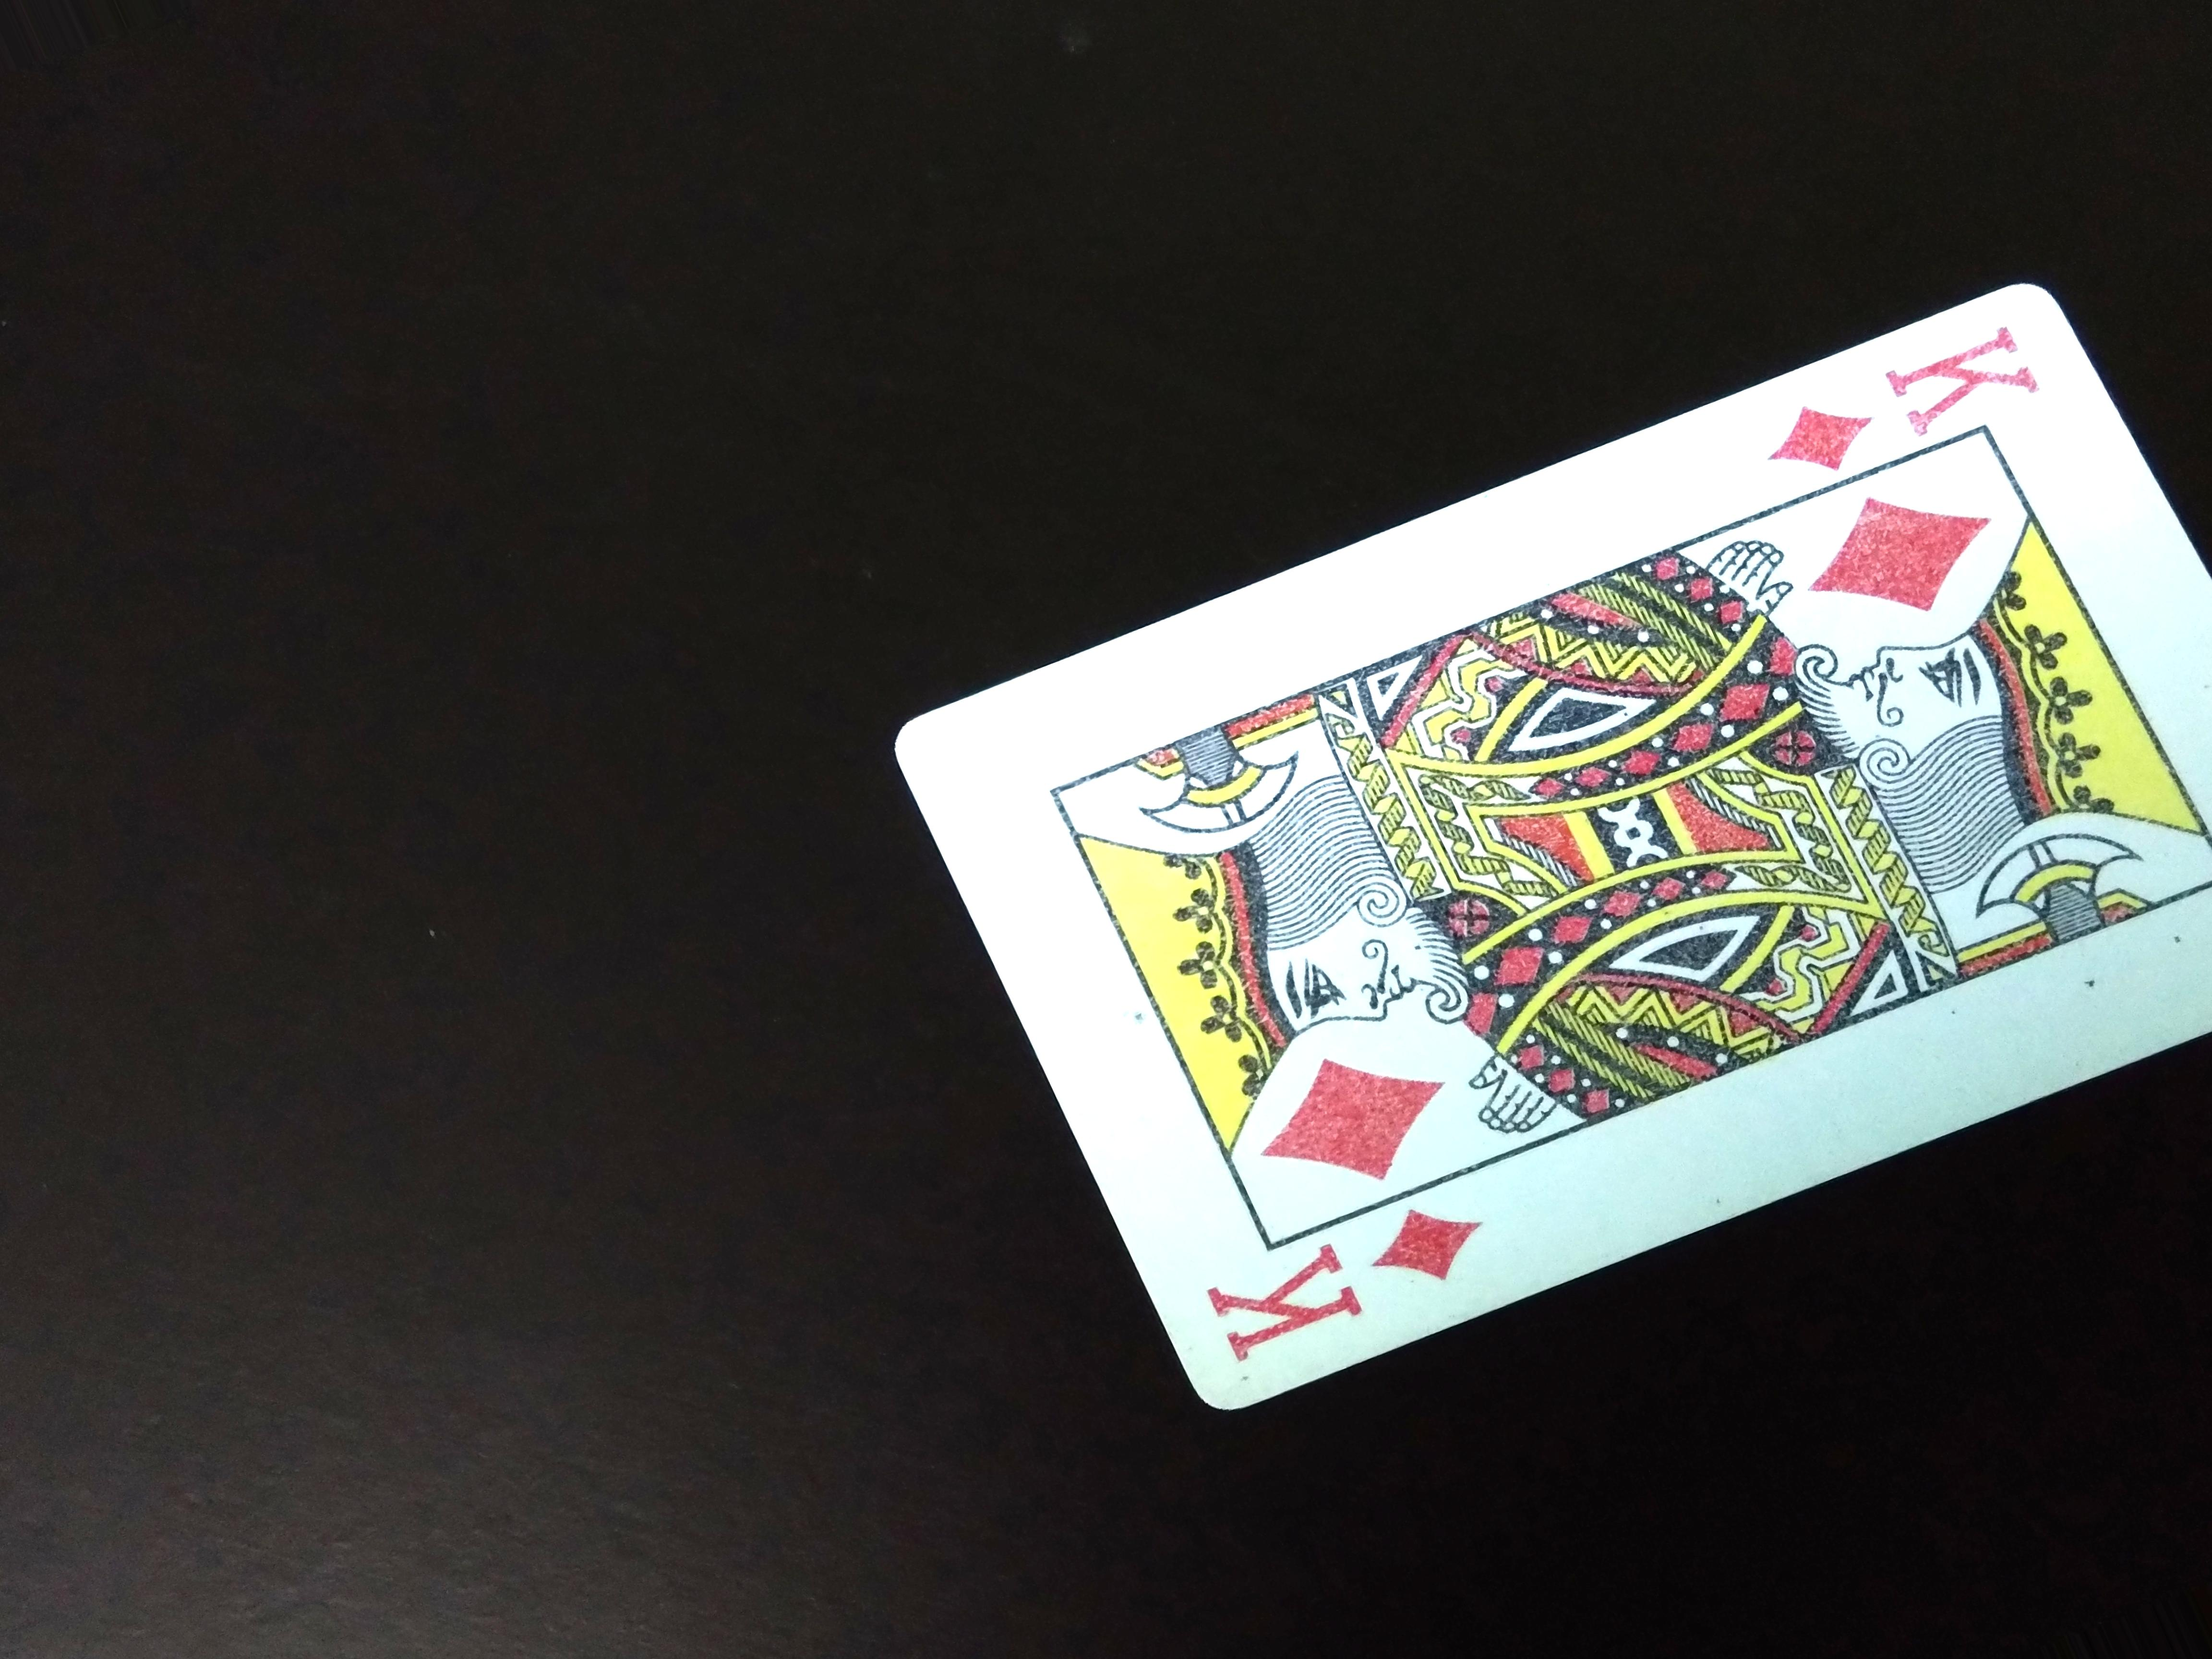KD: (1759, 317, 2045, 477)
